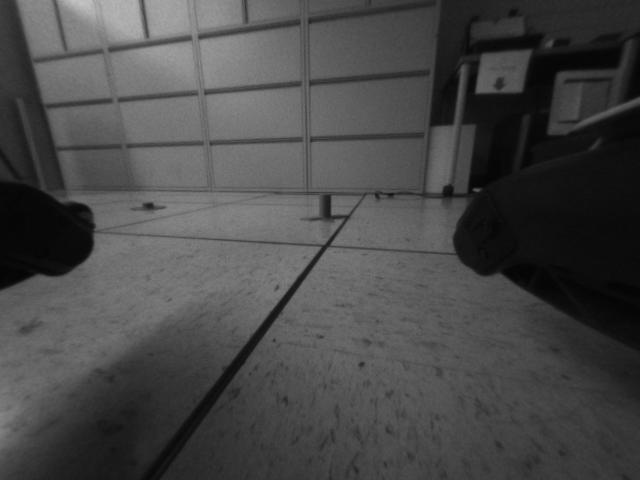X: (296, 190, 353, 227)
